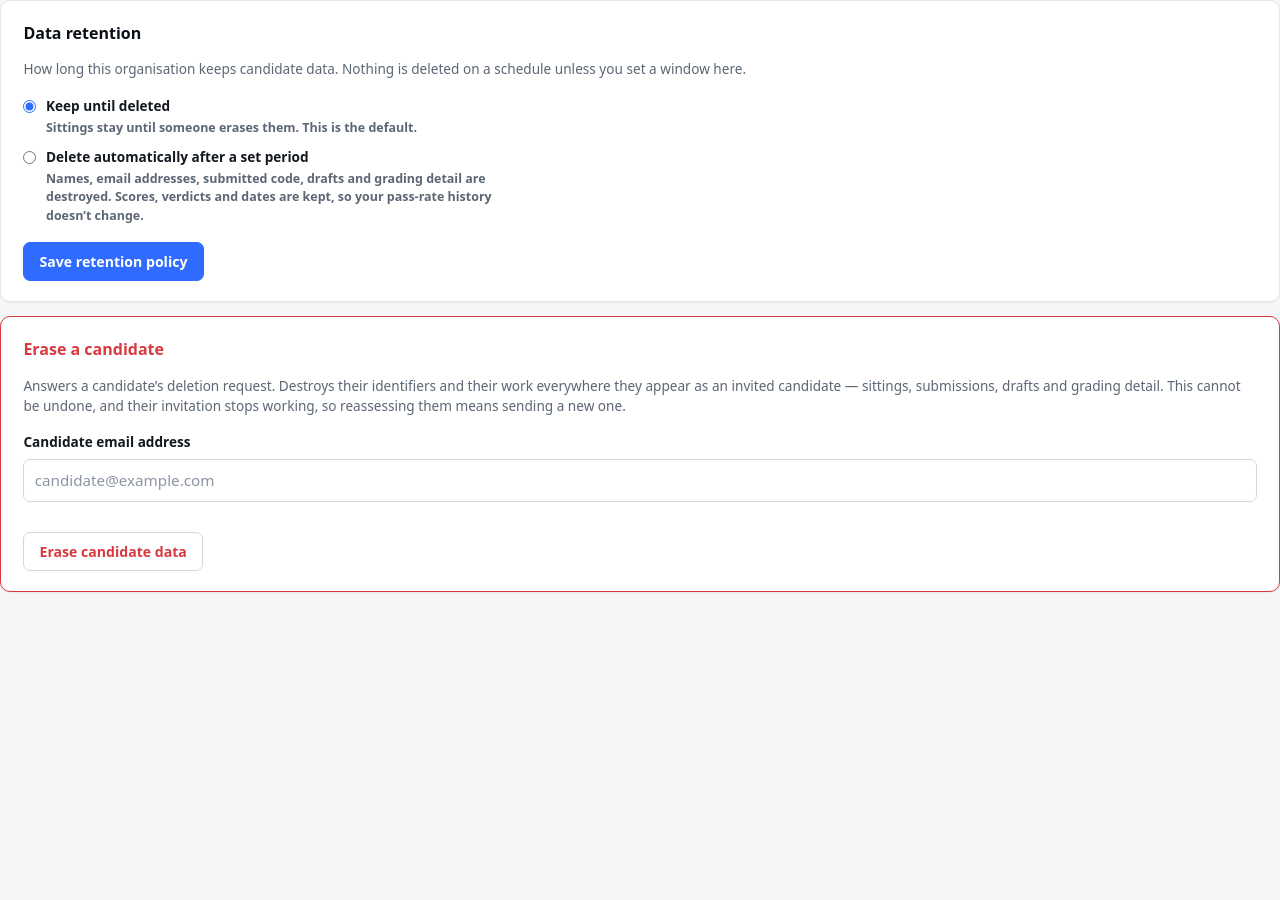
Test case: retention › warns that turning a window on reaches sittings already held
Click the radio button labelled "Delete automatically": (30, 157) [23, 151, 36, 164]
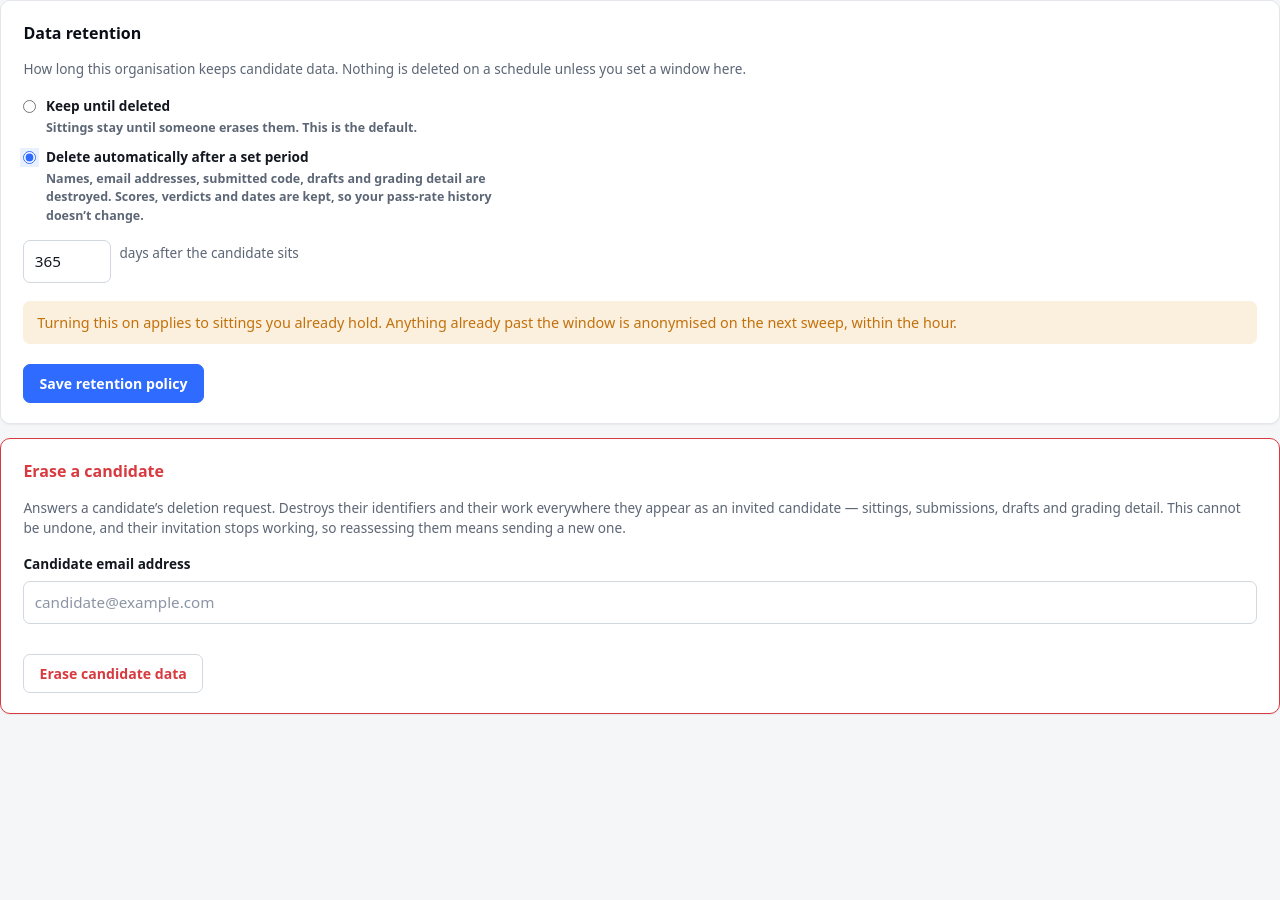
Result: the message shows "sittings you already hold" at [37, 313, 957, 332]
